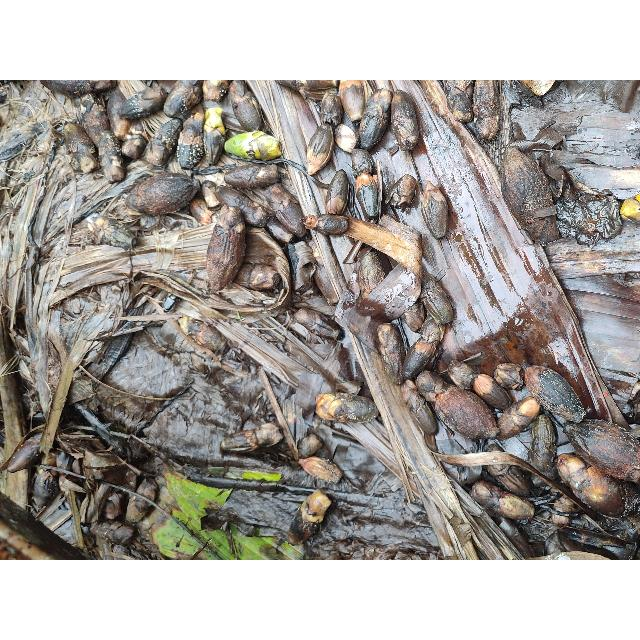damaged: (212, 318, 318, 392), (500, 144, 558, 246), (3, 173, 41, 314), (337, 414, 403, 494), (1, 338, 31, 504), (40, 341, 86, 449), (562, 420, 640, 482), (544, 235, 640, 285), (52, 244, 136, 296), (30, 160, 70, 268), (523, 365, 587, 423), (457, 504, 523, 560), (74, 366, 186, 398), (206, 205, 247, 291), (434, 386, 496, 442), (260, 372, 300, 458), (135, 384, 193, 436), (554, 162, 640, 194), (81, 448, 140, 494), (288, 486, 330, 546), (564, 127, 640, 157), (497, 396, 543, 442), (90, 326, 138, 370), (358, 88, 392, 150), (146, 116, 184, 168), (1, 431, 45, 475), (317, 392, 373, 426), (177, 317, 227, 355), (62, 121, 98, 173), (559, 525, 631, 551), (310, 241, 340, 303), (471, 80, 501, 140), (226, 422, 284, 453), (402, 380, 434, 434), (118, 85, 168, 119), (224, 131, 280, 161), (570, 110, 640, 134), (389, 90, 416, 152), (378, 324, 407, 380), (177, 112, 205, 170), (290, 240, 318, 298), (420, 272, 452, 322), (106, 86, 134, 142), (421, 178, 447, 238), (163, 80, 203, 118), (471, 374, 511, 412), (401, 336, 437, 378), (232, 84, 262, 134), (222, 164, 278, 190), (306, 122, 332, 176), (358, 248, 386, 298), (82, 97, 110, 147), (92, 518, 138, 548), (354, 172, 380, 222), (99, 132, 125, 182), (235, 262, 281, 290), (298, 310, 340, 340), (30, 466, 60, 508), (338, 81, 366, 125), (498, 84, 514, 160), (387, 174, 418, 212), (299, 456, 341, 484), (326, 168, 348, 218), (446, 359, 480, 389), (216, 185, 252, 212), (118, 114, 152, 142), (266, 216, 296, 247), (264, 183, 294, 214), (418, 312, 444, 346), (306, 213, 346, 235), (241, 198, 269, 228), (203, 126, 224, 166), (417, 370, 447, 398), (494, 363, 524, 391), (99, 490, 127, 520), (448, 91, 474, 123), (321, 92, 343, 128), (189, 195, 215, 225), (402, 299, 426, 331), (333, 123, 357, 155), (296, 433, 324, 459), (121, 133, 147, 161), (351, 148, 374, 178), (216, 204, 242, 230), (228, 80, 250, 110), (286, 242, 300, 288), (204, 108, 226, 136), (201, 180, 221, 210), (79, 91, 97, 123)
